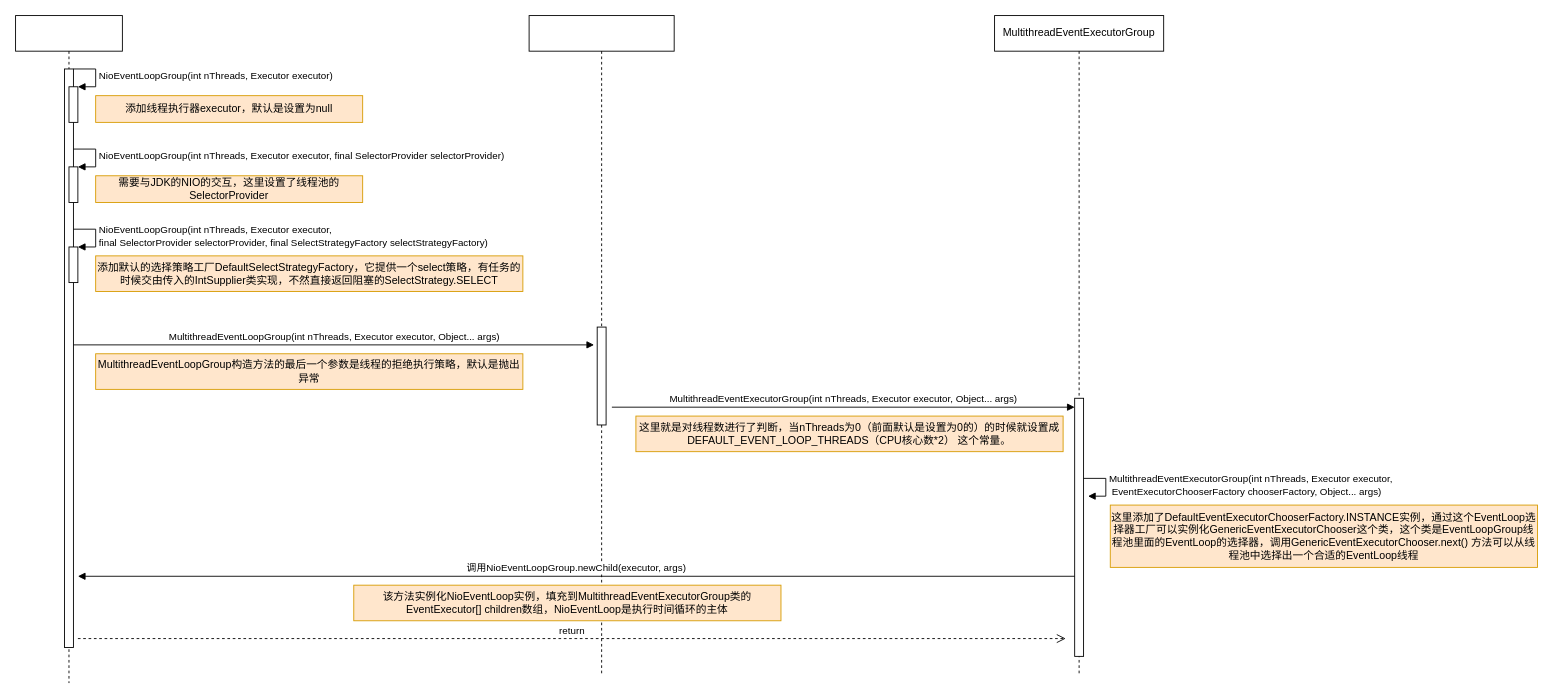
Some shapes in this 1553 by 699 pixel diagram are drawn without their labels. The box of each missing label's shape, as (x1, y1, x2, y2) in pixels:
MultithreadEventLoopGroup: (528, 15, 674, 674)
NioEventLoopGroup: (15, 15, 122, 683)
